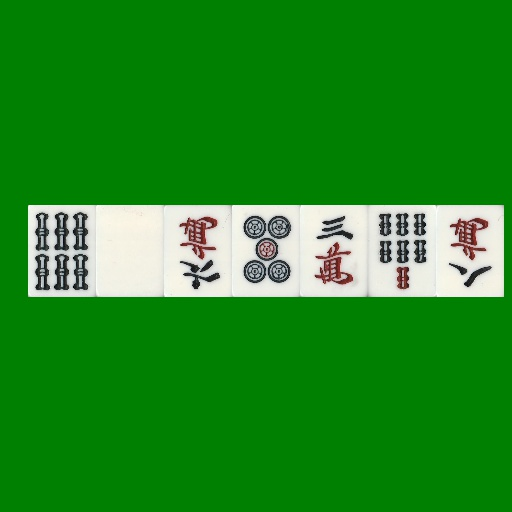3m: (300, 205, 368, 297)
5p: (232, 205, 300, 297)
6m: (164, 205, 232, 297)
6s: (28, 205, 96, 297)
7s: (368, 205, 436, 297)
8m: (436, 205, 504, 297)
white: (96, 205, 164, 297)
